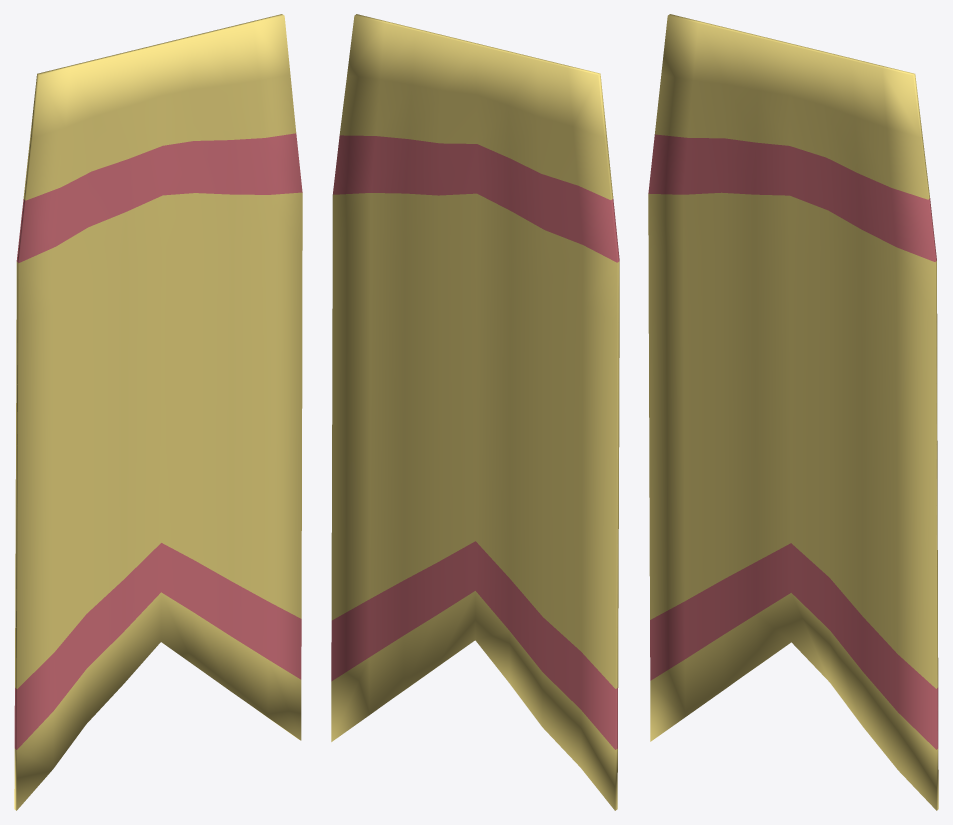
The model's file is banner_yellow_c.glb.
The picture shows the model from 3 angles, left to right: view 1: azimuth 30°, elevation 25°; view 2: azimuth 150°, elevation 25°; view 3: azimuth 330°, elevation 25°; orthographic projection.
Visible parts, largest first — view 1: banner_yellow_c; view 2: banner_yellow_c; view 3: banner_yellow_c.
Boxes of the visible parts, x1,y1,x2,y2 form: banner_yellow_c: (14, 14, 302, 810); banner_yellow_c: (331, 14, 619, 810); banner_yellow_c: (648, 14, 938, 810).
Size of the model in its own units: 1.1 by 2.7 by 0.0533.
